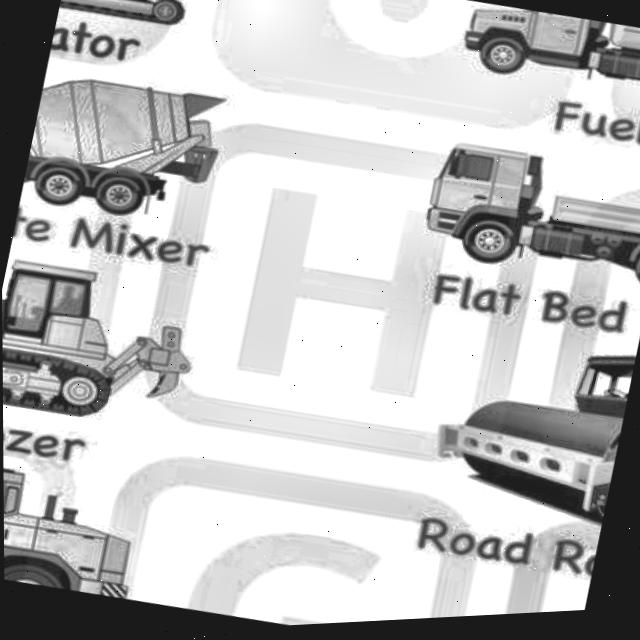excavator: (55, 0, 270, 68)
